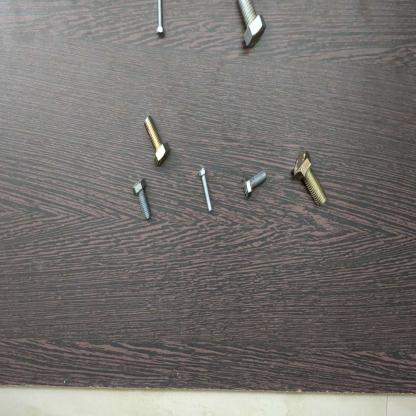Bolts: (289, 149, 329, 212), (232, 0, 270, 52), (145, 109, 171, 170), (241, 164, 269, 202), (150, 0, 168, 51), (196, 160, 212, 214)
